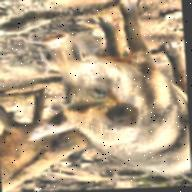boar: (19, 0, 192, 183), (0, 87, 92, 192)
